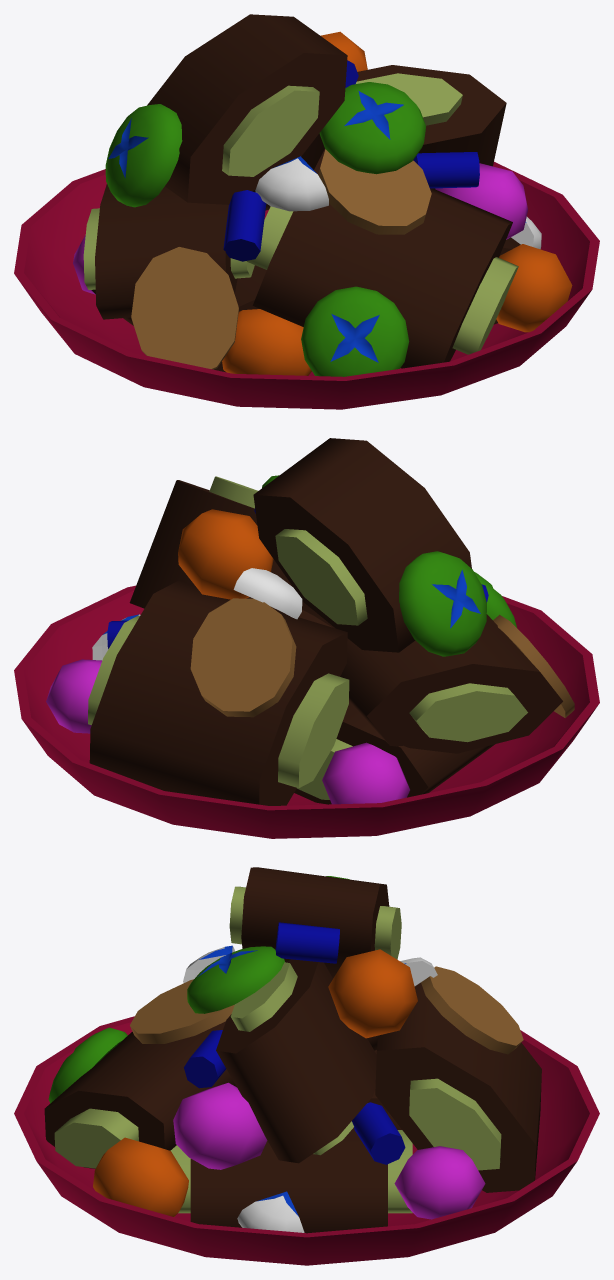
The model's file is Sogalbijjim.fbx.
3 views of the same model, one above another, from view 1: azimuth 30°, elevation 25°; view 2: azimuth 150°, elevation 25°; view 3: azimuth 270°, elevation 25° (orthographic).
Visible parts, largest first — view 1: Sogalbijjim; view 2: Sogalbijjim; view 3: Sogalbijjim.
Part boxes in pixels (<box>): Sogalbijjim: <box>14,14,599,409</box>; Sogalbijjim: <box>14,438,599,838</box>; Sogalbijjim: <box>14,867,599,1265</box>.
Bounding box in the file's own units: 47.62 × 28.91 × 47.62.
